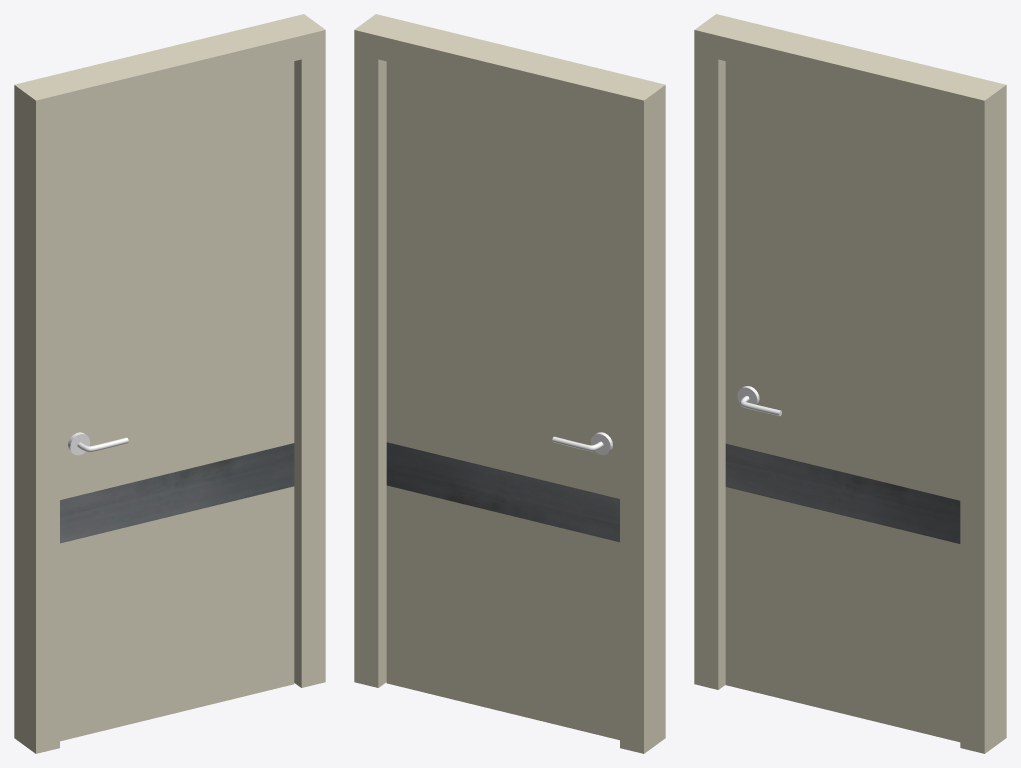
The model's file is Door 2.fbx.
The picture shows the model from 3 angles, left to right: view 1: azimuth 30°, elevation 25°; view 2: azimuth 150°, elevation 25°; view 3: azimuth 330°, elevation 25°; orthographic projection.
Visible parts, largest first — view 1: Door 2, door frame; view 2: Door 2, door frame; view 3: Door 2, door frame.
Part boxes in pixels (box(x1,y1,x2,y2)): Door 2: box(60, 61, 294, 741); door frame: box(14, 14, 325, 753); Door 2: box(386, 61, 619, 740); door frame: box(354, 14, 665, 753); Door 2: box(725, 61, 960, 742); door frame: box(694, 14, 1006, 753).
Bounding box in the file's own units: 96.56 × 208 × 16.82.
Materials: 1 (1 with a texture image).
